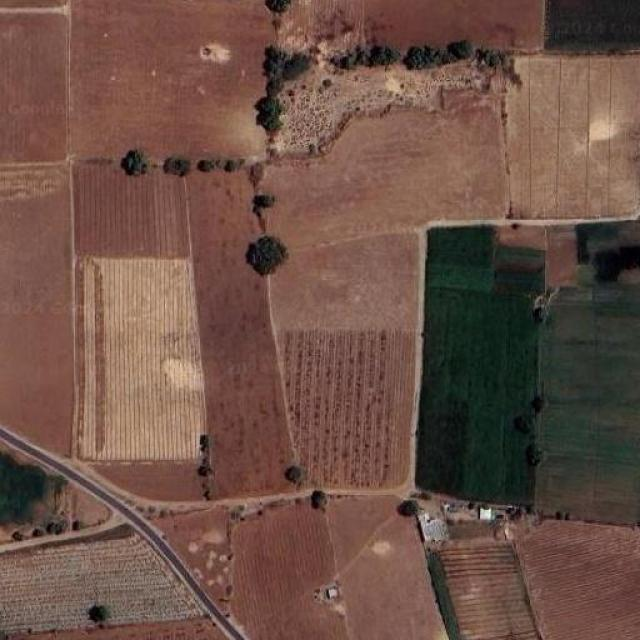land-Sx1C: (416, 226, 545, 503), (186, 171, 294, 497), (262, 104, 502, 248), (71, 0, 271, 158), (78, 255, 204, 461), (535, 280, 640, 523), (506, 54, 640, 219), (0, 161, 74, 453), (282, 329, 415, 488), (280, 59, 502, 154), (0, 530, 202, 632), (328, 495, 448, 639), (231, 504, 349, 639), (516, 520, 640, 640), (272, 234, 419, 328), (74, 161, 190, 257), (0, 8, 69, 162), (0, 449, 111, 542), (438, 541, 539, 640), (364, 0, 544, 49), (155, 506, 231, 609), (545, 0, 640, 51), (279, 0, 365, 56), (9, 618, 226, 639), (90, 461, 202, 501), (578, 221, 640, 281), (546, 225, 578, 287), (495, 224, 544, 251), (0, 1, 68, 9)
